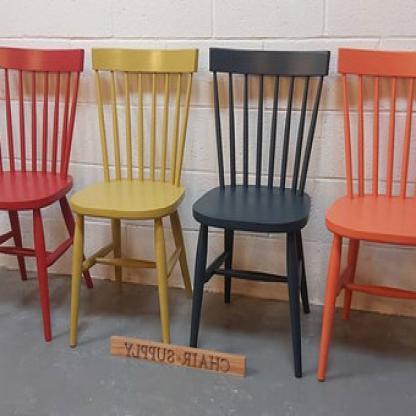chair: (193, 49, 328, 378), (66, 48, 193, 350), (320, 38, 416, 378), (0, 44, 84, 344)
